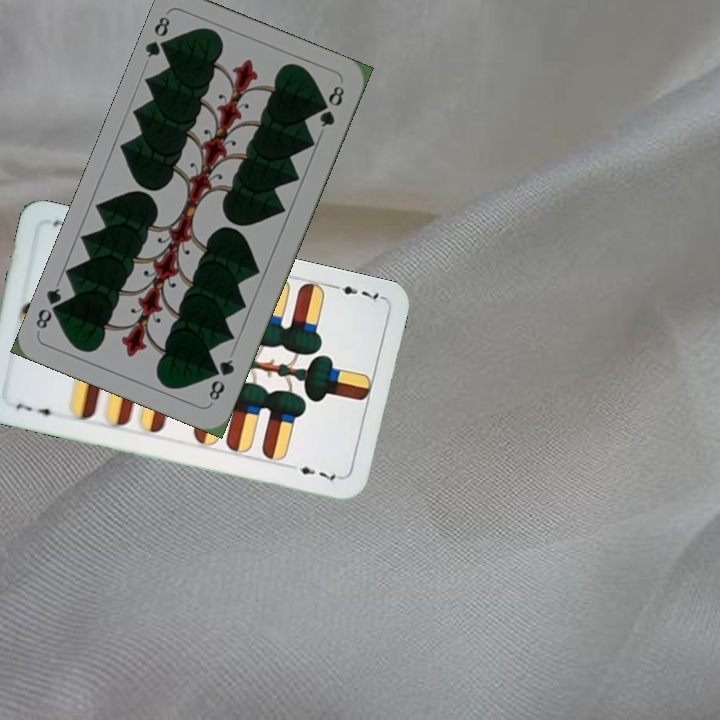E7: (327, 280, 385, 306), (11, 399, 59, 420)
G8: (141, 12, 175, 61), (205, 355, 237, 403)
